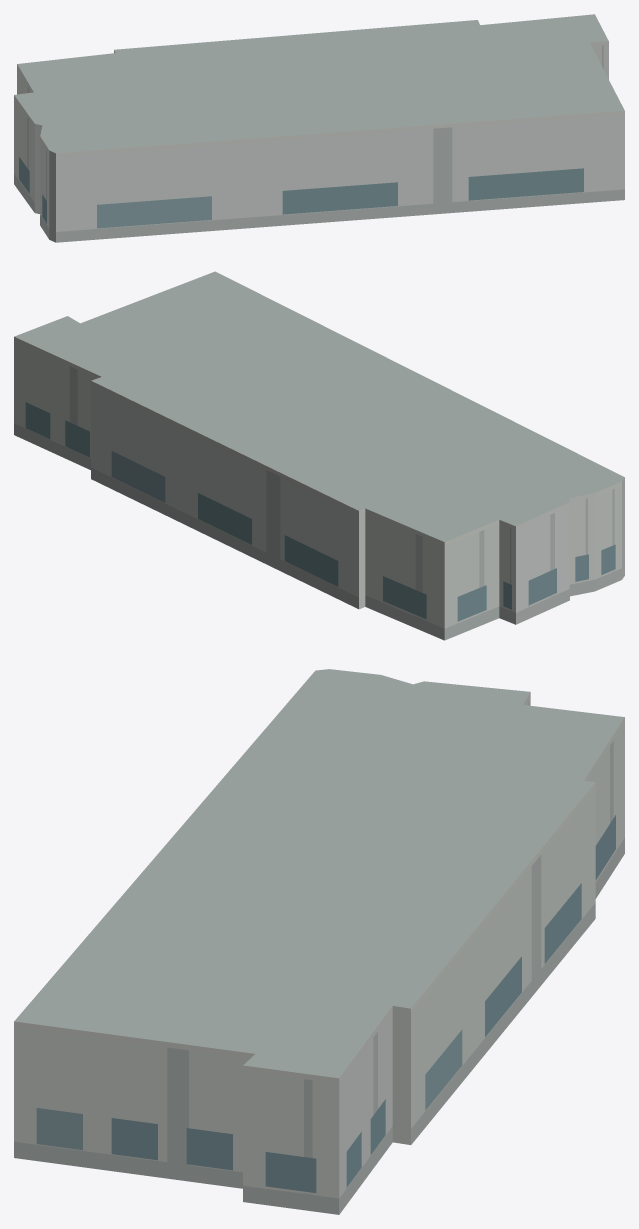
File: survey-upis-32980076.glb
3 renders of one model, top to bottom at view 1: azimuth 30°, elevation 25°; view 2: azimuth 150°, elevation 25°; view 3: azimuth 270°, elevation 25°, orthographic. The views are drawn at different scales.
Visible parts, largest first — view 1: survey-upis-32980076.tmp; view 2: survey-upis-32980076.tmp; view 3: survey-upis-32980076.tmp.
Boxes of the visible parts, left/top/right/bottom form: survey-upis-32980076.tmp: left=14, top=14, right=624, bottom=242; survey-upis-32980076.tmp: left=14, top=271, right=624, bottom=640; survey-upis-32980076.tmp: left=14, top=669, right=624, bottom=1214.
Size of the model in its own units: 39.22 by 6.1 by 24.74.
